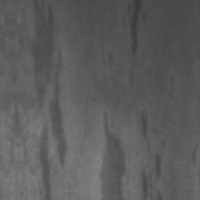inclusion: (15, 0, 70, 192), (92, 107, 127, 189), (119, 0, 150, 59), (136, 145, 164, 185), (134, 107, 153, 156), (187, 142, 199, 182)
